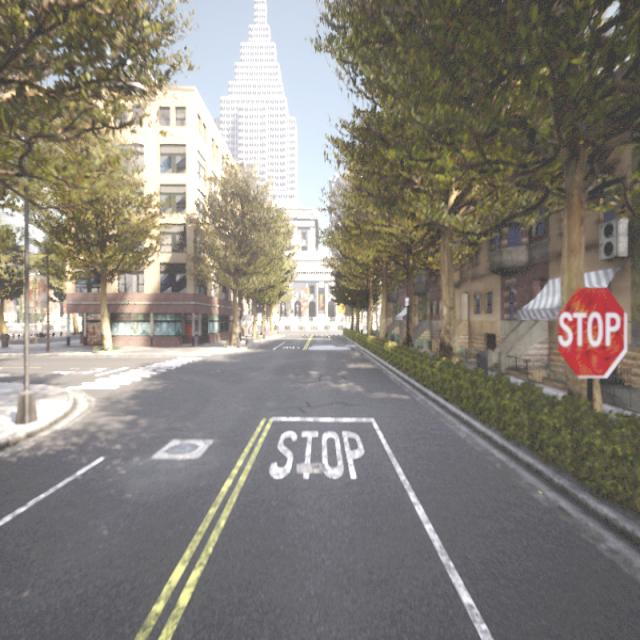stop sign: (554, 282, 628, 380), (556, 308, 622, 350)
